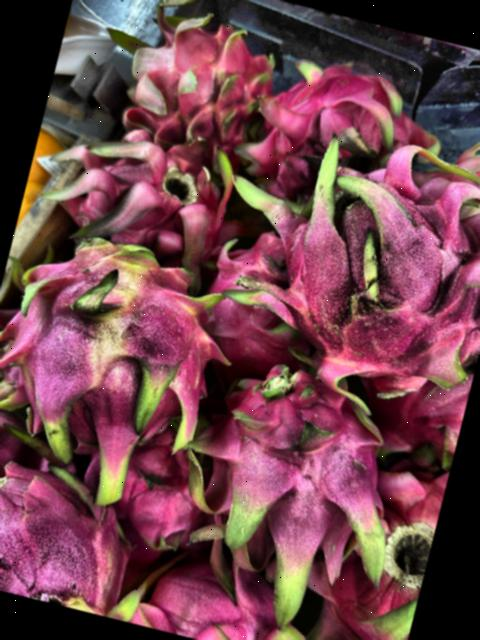buah-naga-belum-matang: (0, 217, 244, 494)
buah-naga-matang: (214, 122, 480, 413), (173, 340, 431, 614), (238, 29, 465, 205), (33, 105, 247, 278), (101, 0, 290, 172), (0, 431, 150, 618), (336, 457, 449, 640), (137, 544, 330, 640)
